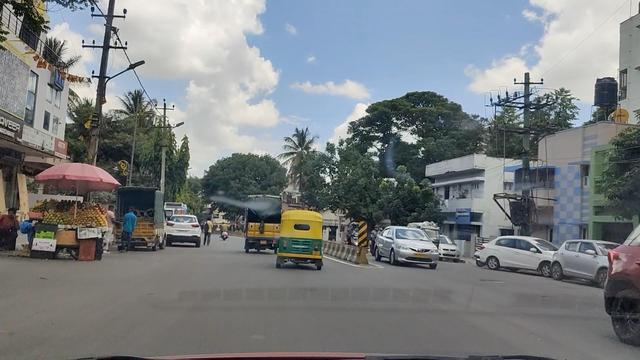LMV: (281, 211, 321, 270)
